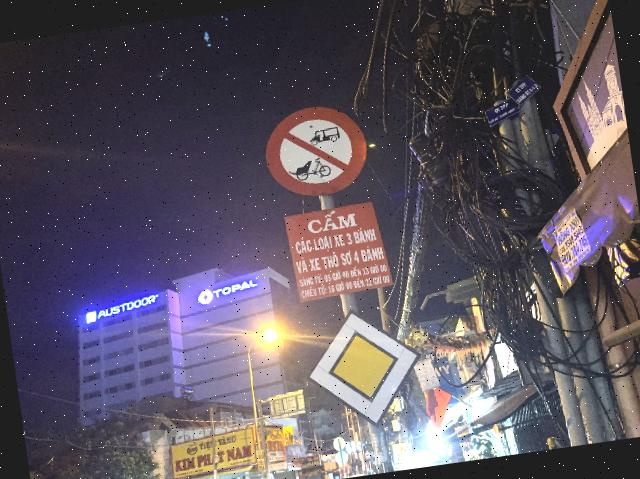bat-dau-duong-uu-tien: (297, 299, 431, 438)
cam-xe-3-banh-xe-tho-so-4-banh: (260, 99, 372, 202)
